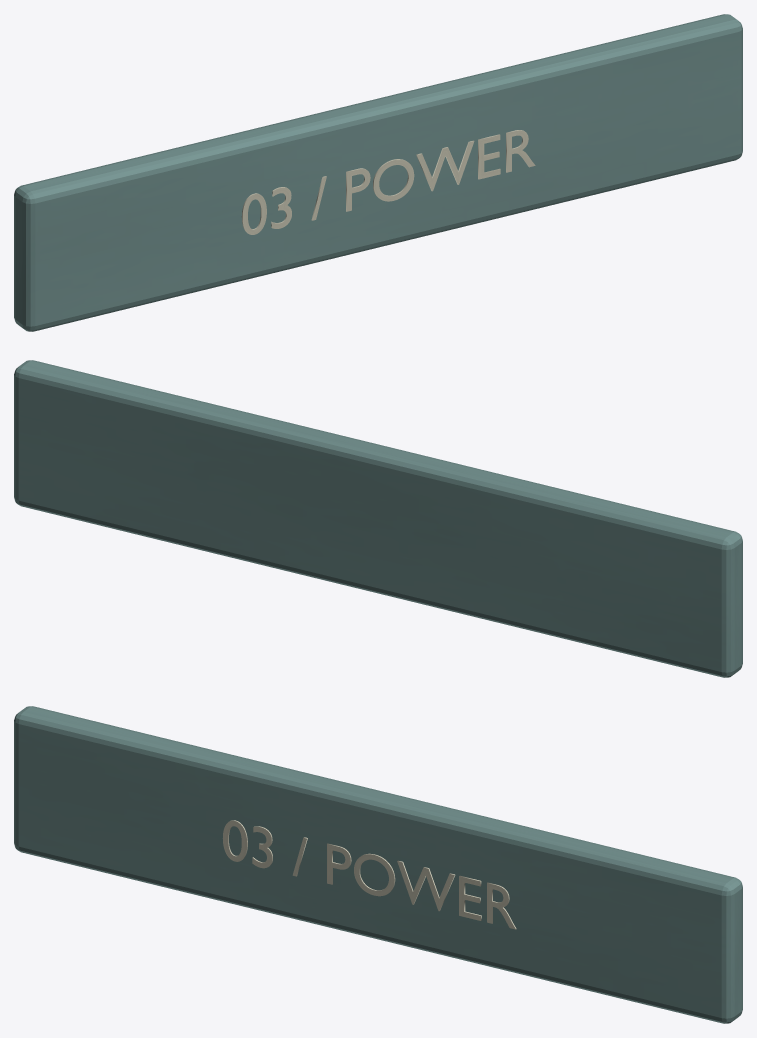
Rendered from Sign_Power.glb.
3 views of the same model, one above another, from view 1: azimuth 30°, elevation 25°; view 2: azimuth 150°, elevation 25°; view 3: azimuth 330°, elevation 25° (orthographic).
Parts seen in each view (by area): view 1: Sign_Power; view 2: Sign_Power; view 3: Sign_Power.
Part boxes in pixels (x1=…): Sign_Power: x1=14, y1=14, x2=742, y2=331; Sign_Power: x1=14, y1=360, x2=742, y2=677; Sign_Power: x1=14, y1=706, x2=742, y2=1023.
Bounding box in the file's own units: 3.5 × 0.65 × 0.153.
Materials: 2 (2 with a texture image).
